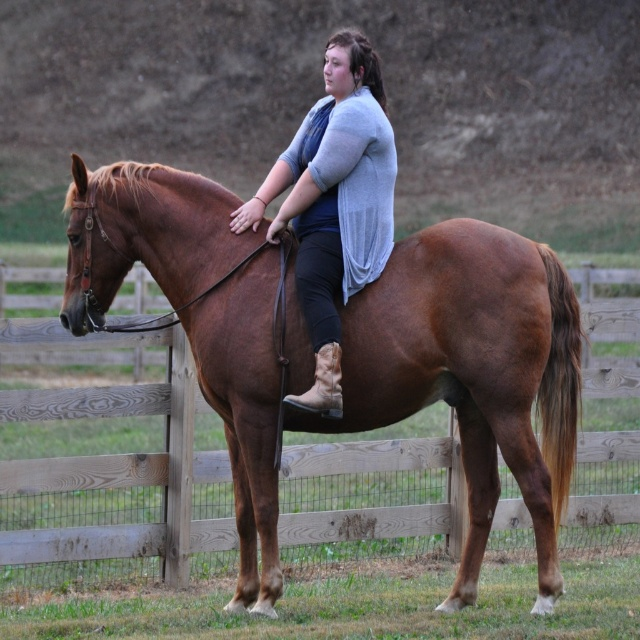Horse: (59, 154, 592, 620)
